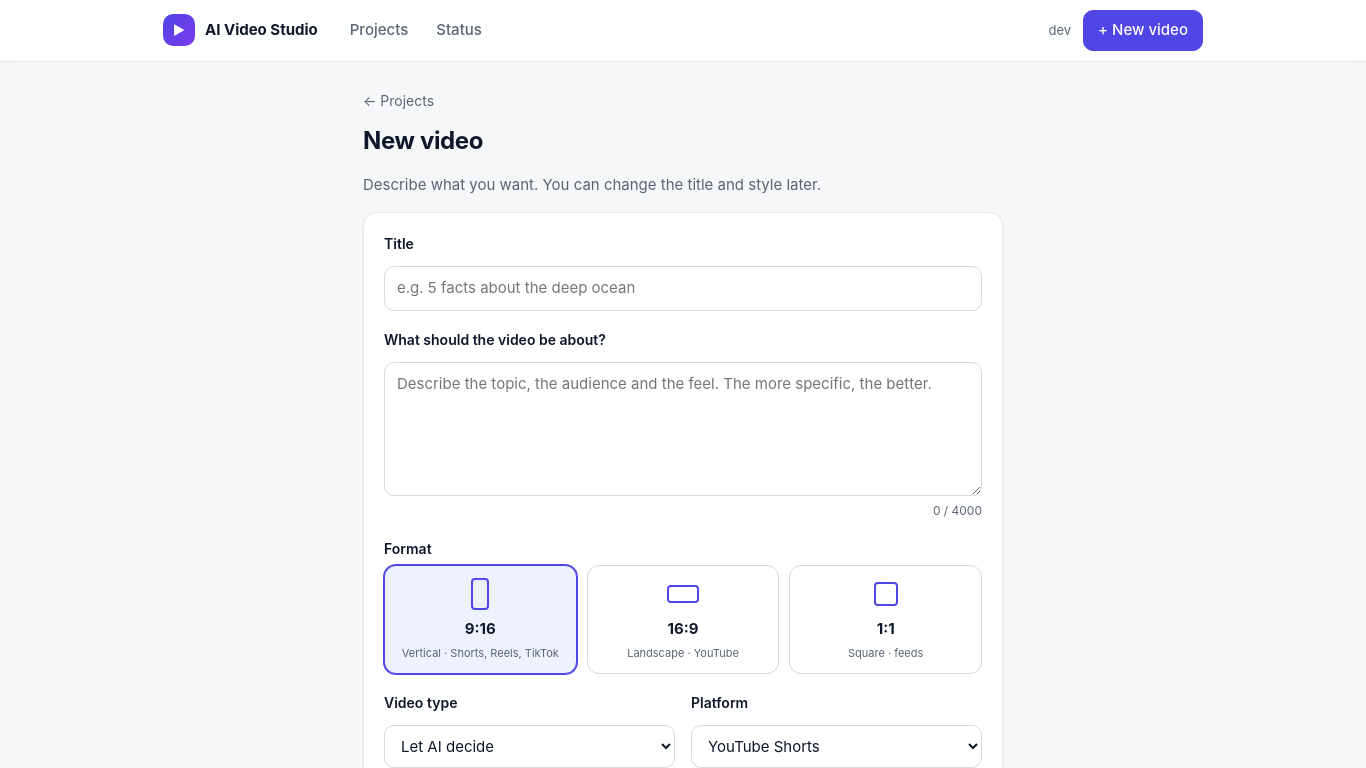
Test: new project form › creates the project with an idempotency key and opens it
Type "Mars" into the field labelled "Title". click: (683, 288)
box: [384, 266, 982, 310]
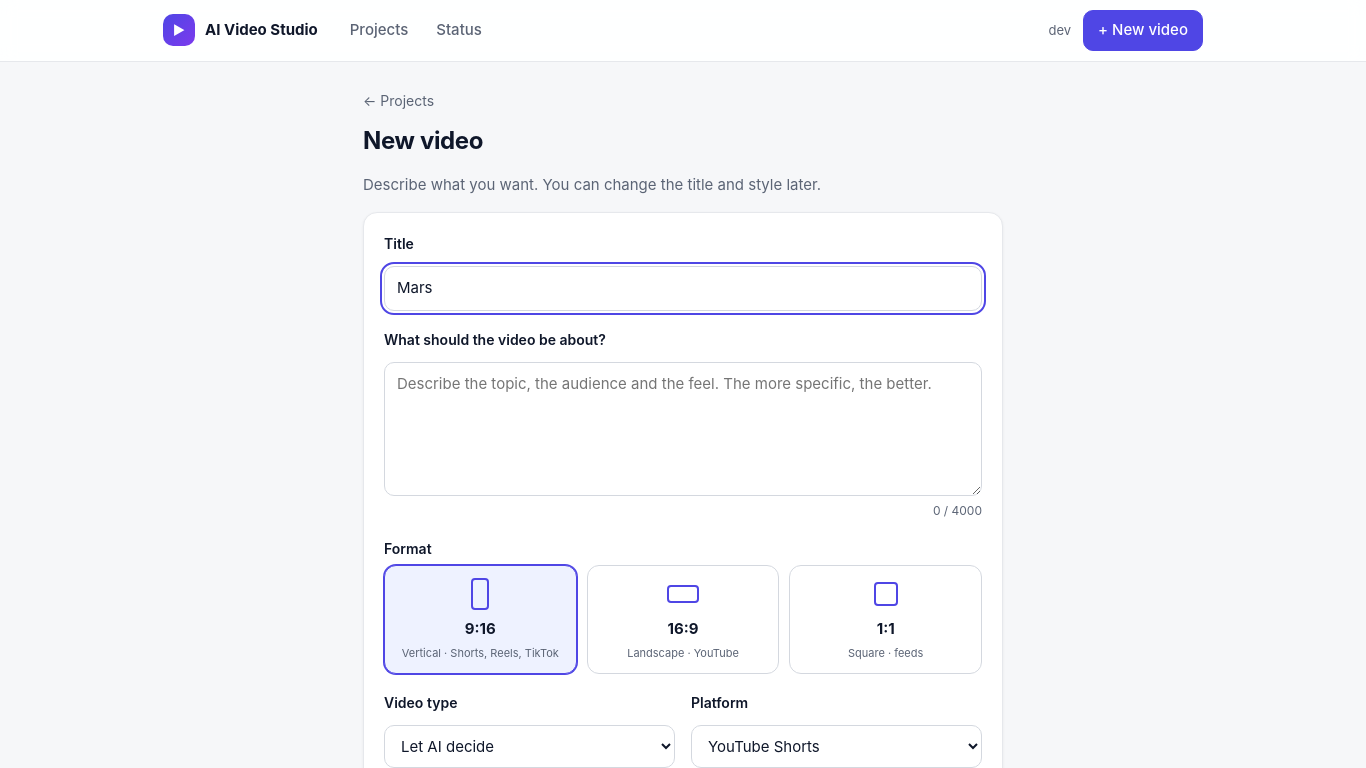
Type "Three facts about Mars" into the text box labelled "What should the video be about?". click: (683, 429)
box: [384, 362, 982, 496]
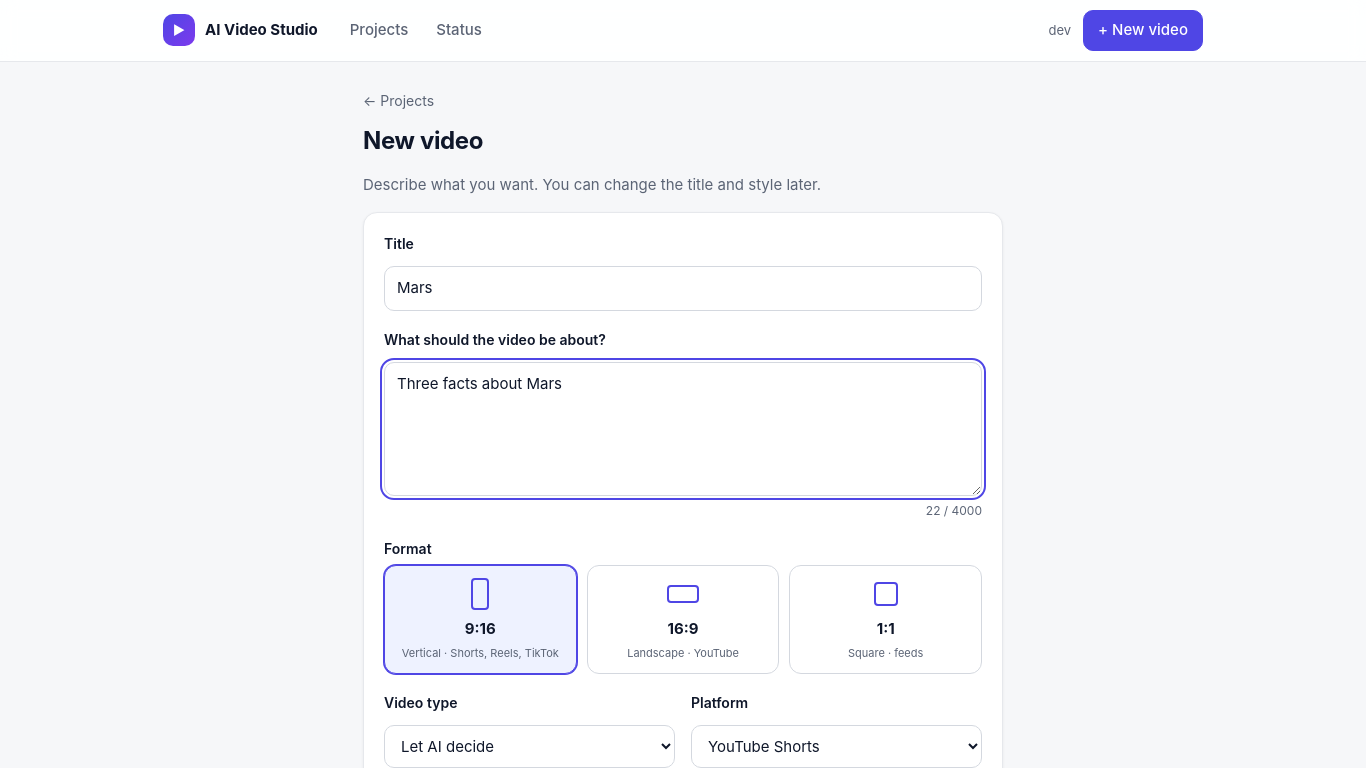
Click the radio button labelled "16:9 Landscape · YouTube". click: (683, 620)
box: [587, 565, 779, 674]
(page scrolled)
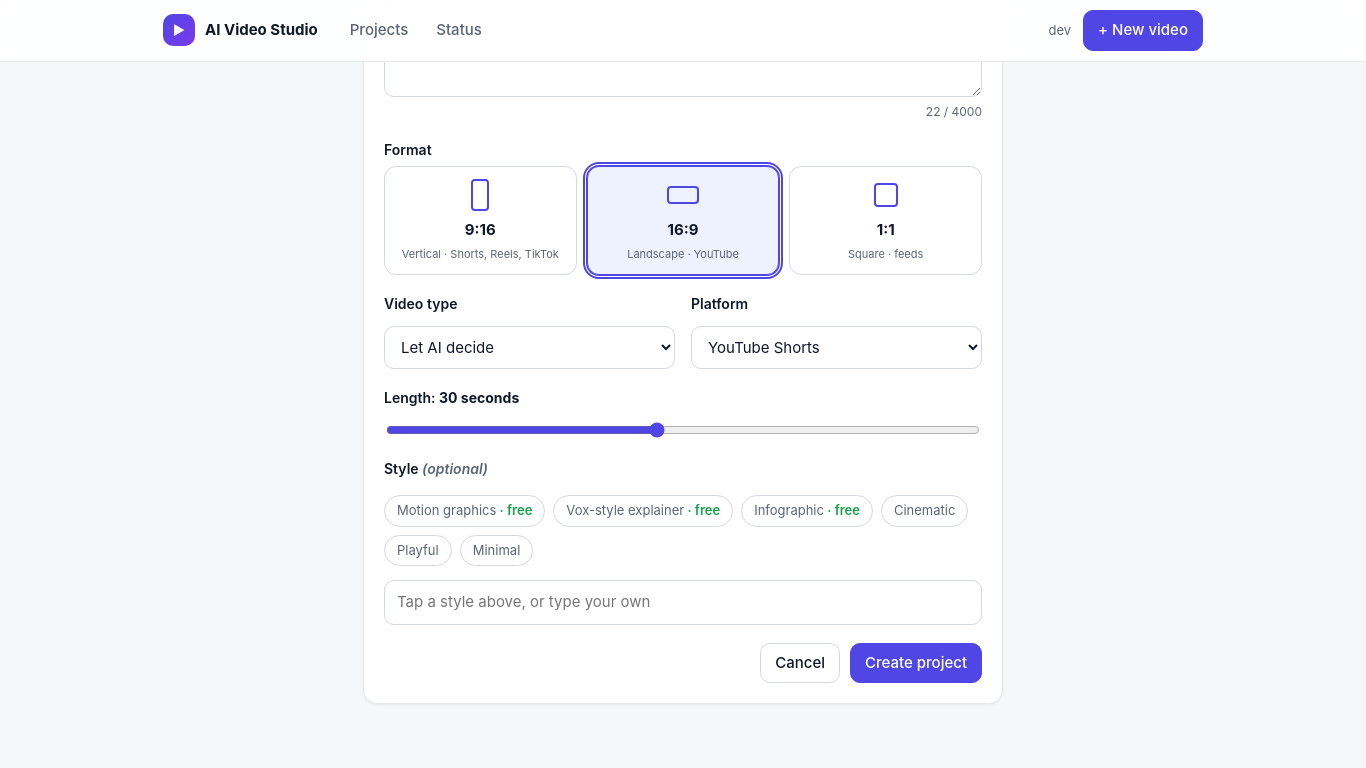
Type "documentary" into the field labelled "Style (optional)". click: (683, 602)
box: [384, 580, 982, 624]
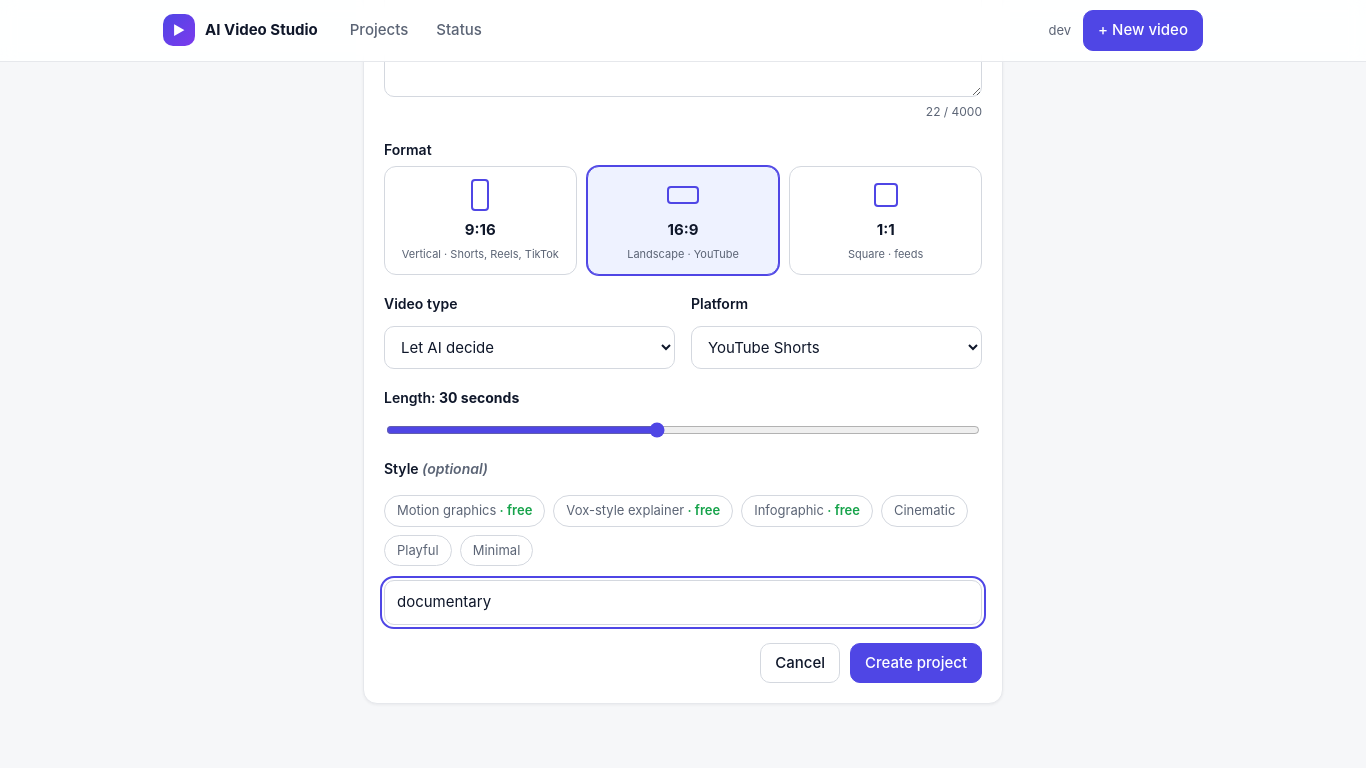
Click the button "Create project". click: (916, 663)
box: [850, 642, 982, 683]
(page scrolled)
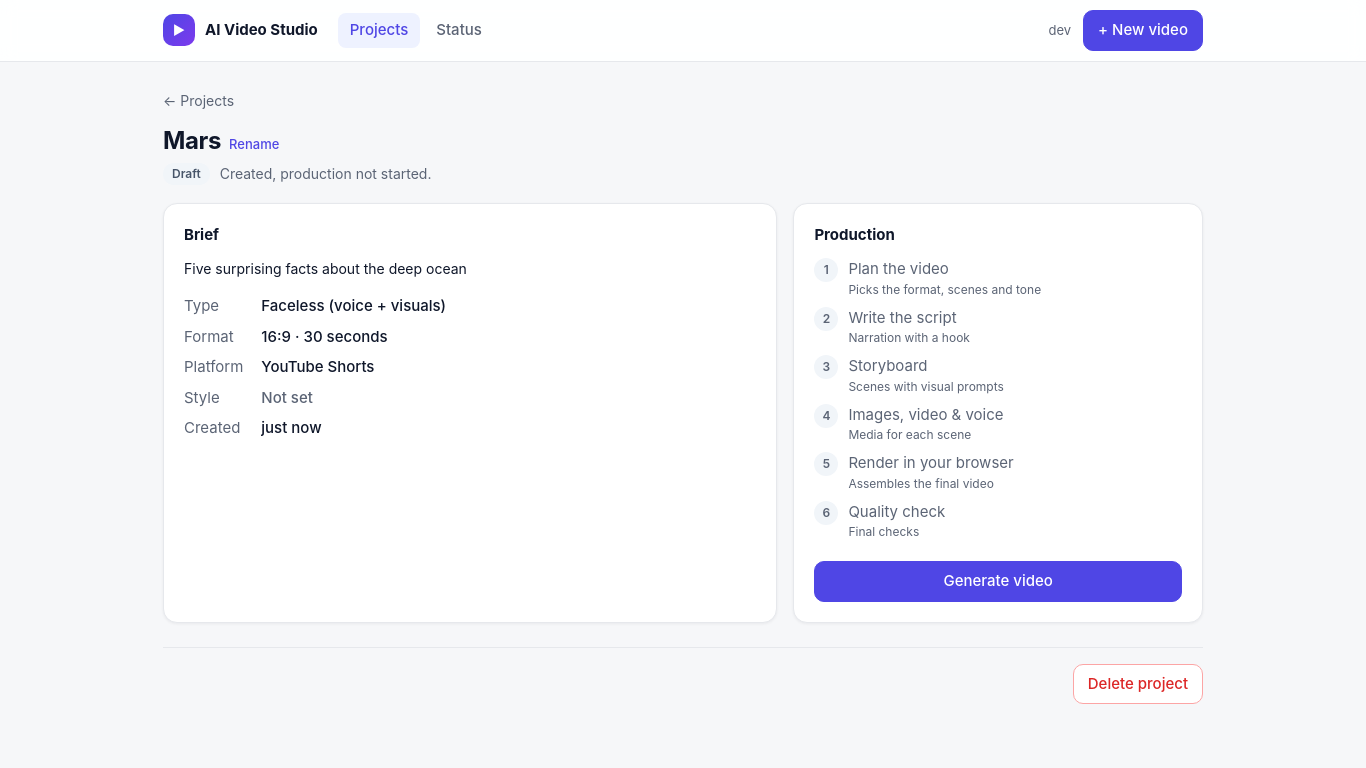
expect the heading "Mars Rename" is shown: met, box [163, 126, 283, 154]
